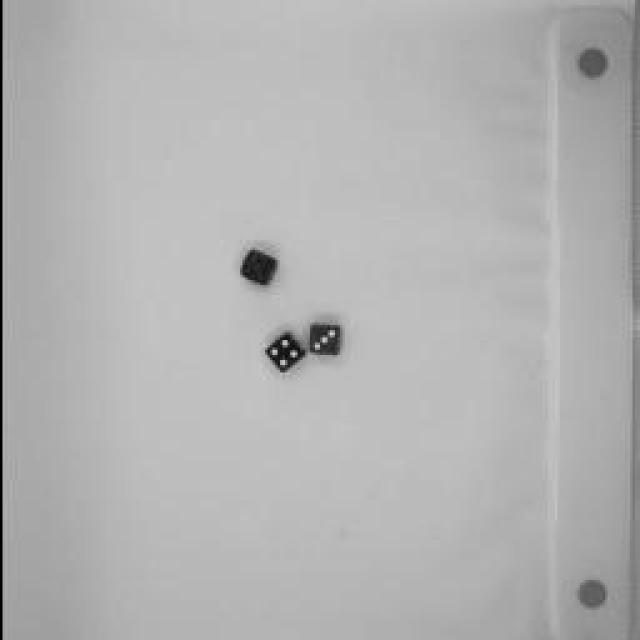dice_3: (299, 312, 349, 362), (231, 244, 281, 291)
dice_4: (259, 329, 306, 376)
